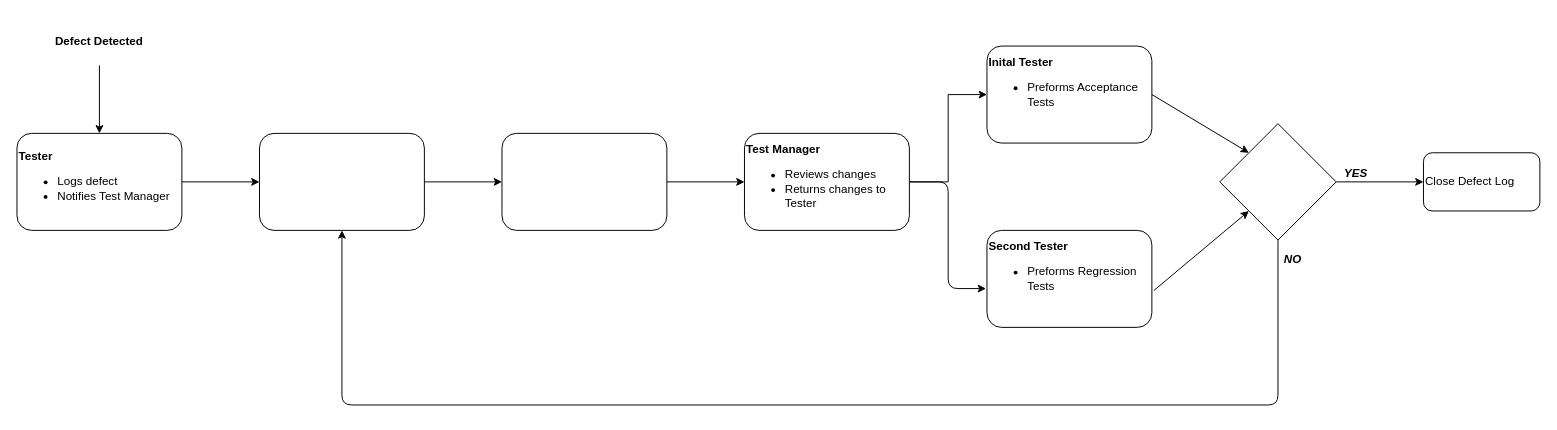
The diagram is 1557 pixels wide and 430 high, and some of its shapes have lost their labels. The centre of each missing label's shape, as x and y in pixels:
"Approved?" belongs at point 1277,181.
"Development Team Makes changes Returns changes to Test Manager" belongs at point 584,181.
"Test Manager Reviews defect Change Request made to Development TeamTest Manager" belongs at point 341,181.
